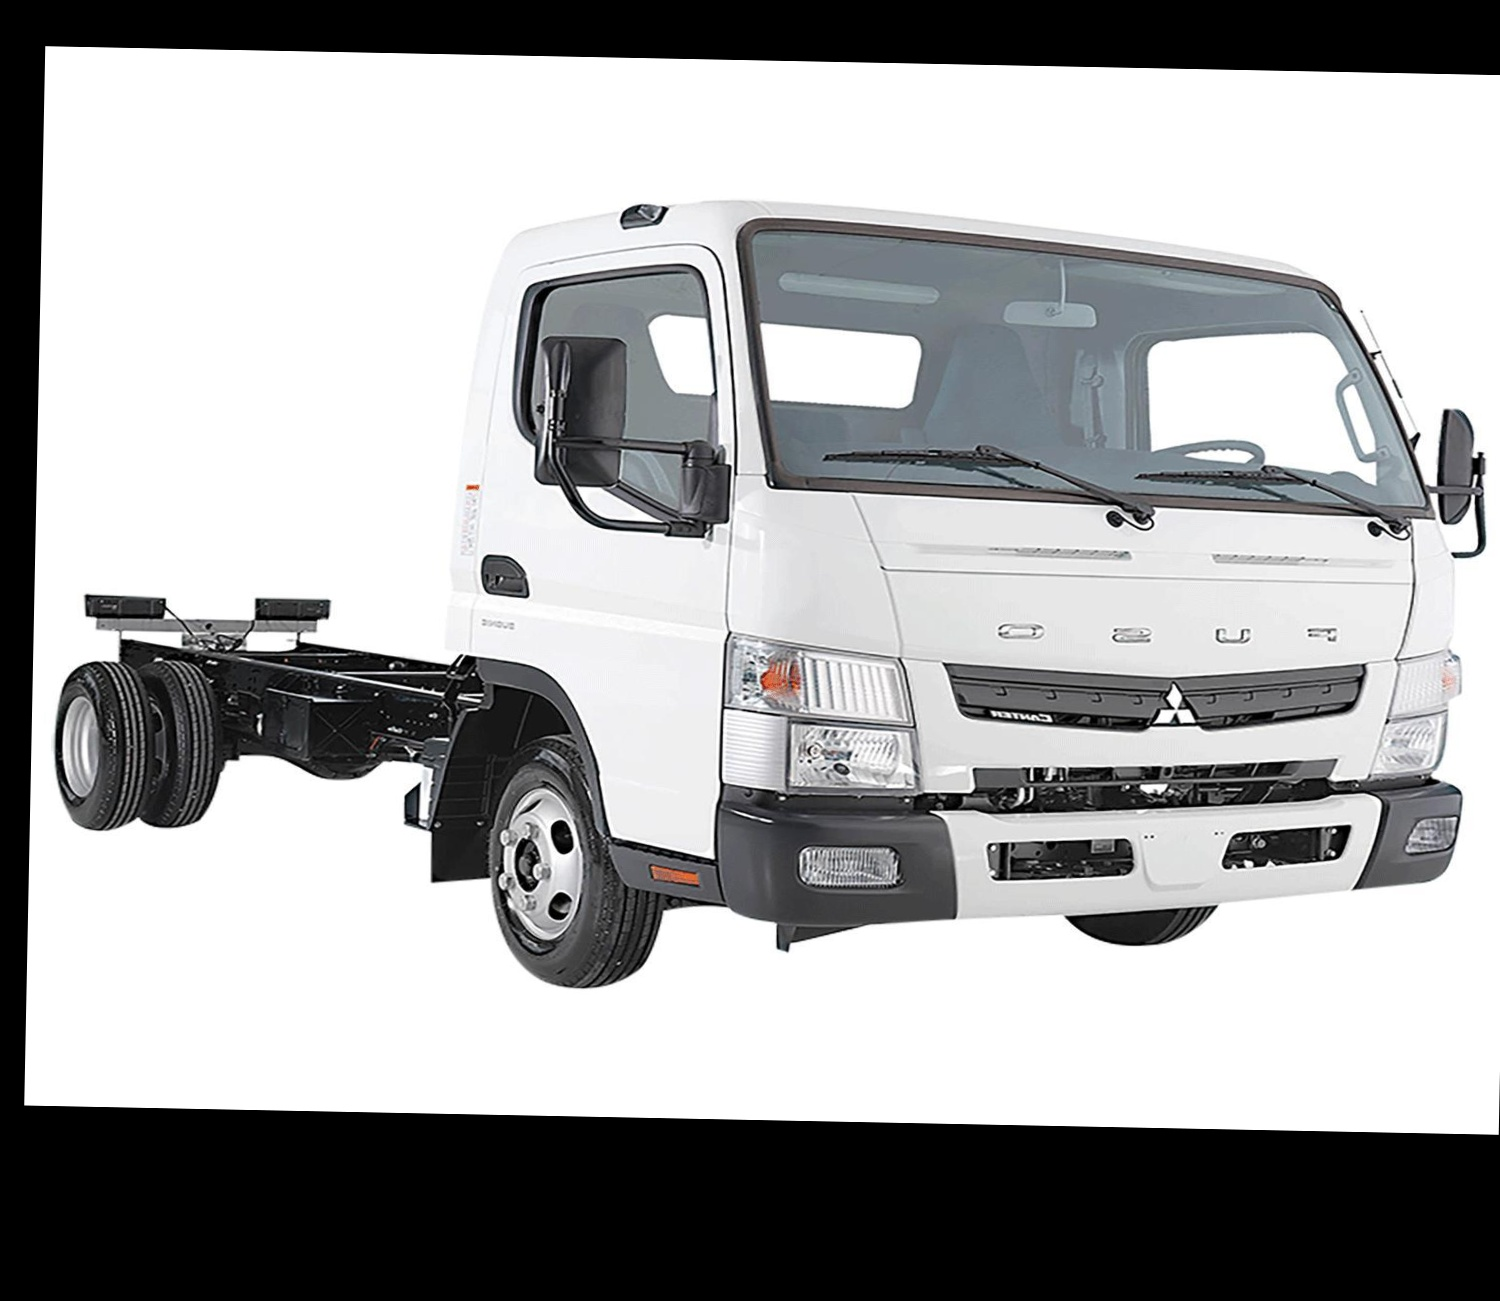truck: (54, 185, 1500, 1004)
